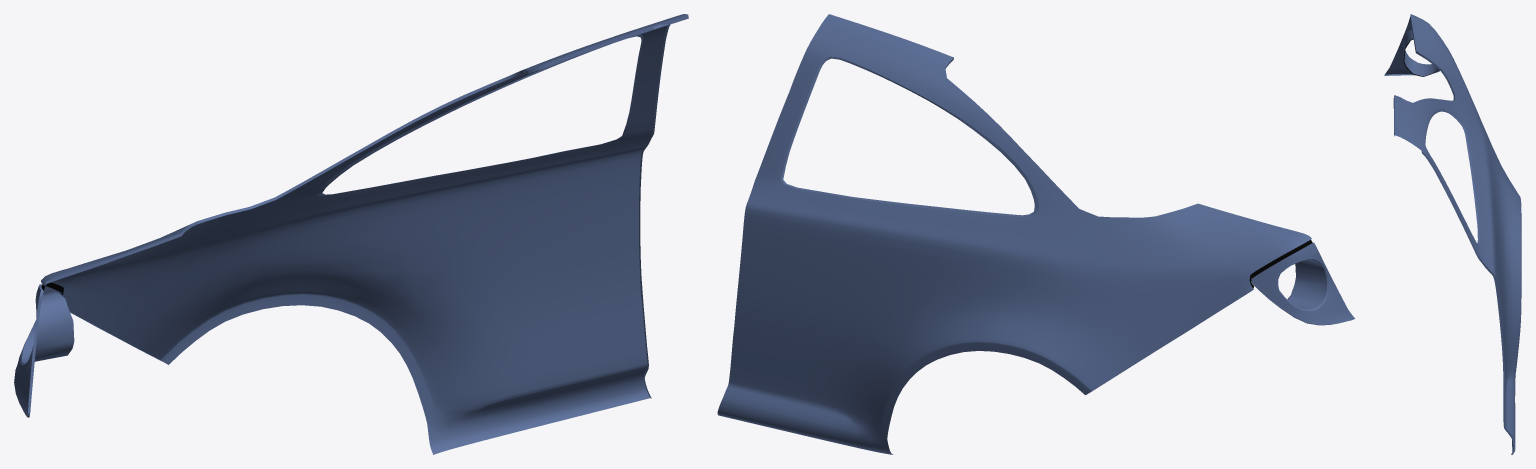
3 renders of one model, left to right at view 1: azimuth 30°, elevation 25°; view 2: azimuth 150°, elevation 25°; view 3: azimuth 270°, elevation 25°, orthographic. The views are drawn at different scales.
Visible parts, largest first — view 1: U236_17_381B_L_U236_17_381B_L_1_DaS, U236_17_381B_L_U236_17_381B_L_1_DaS_E, U236_17_381B_L_U236_17_381B_L_2_DaS; view 2: U236_17_381B_L_U236_17_381B_L_1_DaS, U236_17_381B_L_U236_17_381B_L_2_DaS, U236_17_381B_L_U236_17_381B_L_1_DaS_E; view 3: U236_17_381B_L_U236_17_381B_L_1_DaS, U236_17_381B_L_U236_17_381B_L_1_DaS_E, U236_17_381B_L_U236_17_381B_L_2_DaS.
Boxes of the visible parts, x1,y1,x2,y2 form: U236_17_381B_L_U236_17_381B_L_1_DaS: (41,14,687,454); U236_17_381B_L_U236_17_381B_L_1_DaS_E: (43,14,688,398); U236_17_381B_L_U236_17_381B_L_2_DaS: (14,286,74,416); U236_17_381B_L_U236_17_381B_L_1_DaS: (717,14,1311,454); U236_17_381B_L_U236_17_381B_L_2_DaS: (1251,243,1354,324); U236_17_381B_L_U236_17_381B_L_1_DaS_E: (781,56,1192,330); U236_17_381B_L_U236_17_381B_L_1_DaS: (1394,14,1521,451); U236_17_381B_L_U236_17_381B_L_1_DaS_E: (1393,15,1515,454); U236_17_381B_L_U236_17_381B_L_2_DaS: (1386,19,1439,76).
Bounding box in the file's own units: 177 × 108 × 44.44.
